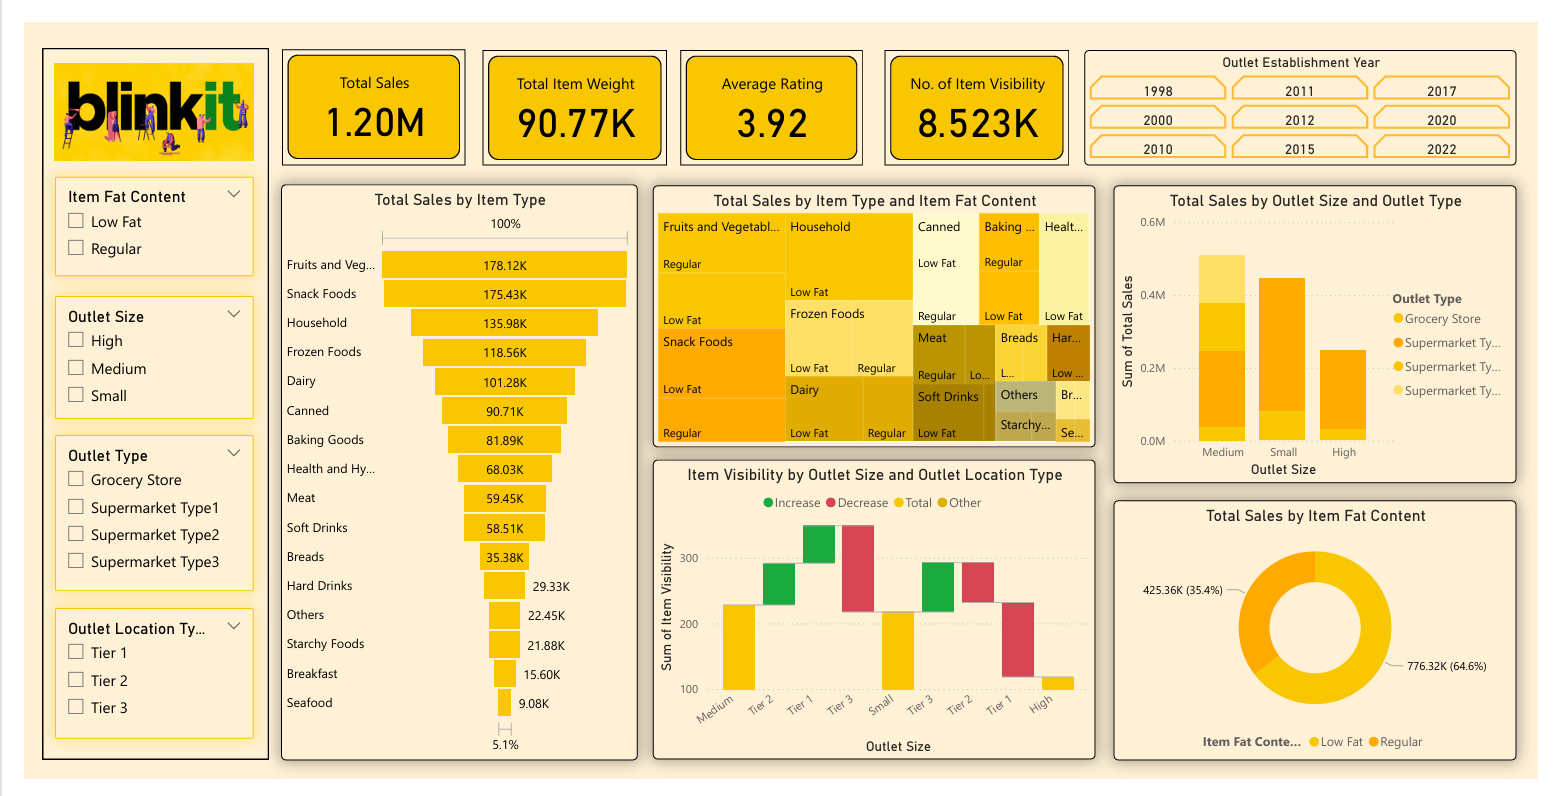

The page's visual inventory and layout, read from the dashboard file:
{"tool":"powerbi","page":{"name":"BlinkitData","canvas":[1600,800],"ordinal":0},"visuals":[{"type":"shape","box":[19.4,27.4,238.7,751.6],"z":0},{"type":"slicer","fields":{"Values":["BlinkIT Grocery Data.Item Fat Content"]},"box":[32.2,163.3,210,104.4],"z":1000},{"type":"slicer","fields":{"Values":["BlinkIT Grocery Data.Outlet Size"]},"box":[31.9,288.9,209.7,130.6],"z":2000},{"type":"slicer","fields":{"Values":["BlinkIT Grocery Data.Outlet Type"]},"box":[31.9,436.1,209.7,165.3],"z":3000},{"type":"cardVisual","title":"Total Sales","fields":{"Data":["Sum(BlinkIT Grocery Data.Total Sales)"]},"box":[271.6,28.4,194.6,123],"z":4000},{"type":"cardVisual","fields":{"Data":["Avg(BlinkIT Grocery Data.Rating)"]},"box":[692.5,28.8,193.8,122.5],"z":5000},{"type":"cardVisual","fields":{"Data":["Sum(BlinkIT Grocery Data.Item Weight)"]},"box":[483.8,28.8,195,122.5],"z":6000},{"type":"donutChart","title":"Total Sales by Item Fat Content","fields":{"Category":["BlinkIT Grocery Data.Item Fat Content"],"Y":["Sum(BlinkIT Grocery Data.Total Sales)"]},"box":[1150.8,504.9,426.2,275.4],"z":7000},{"type":"columnChart","title":"Total Sales by Outlet Size and Outlet Type","fields":{"Category":["BlinkIT Grocery Data.Outlet Size"],"Y":["Sum(BlinkIT Grocery Data.Total Sales)"],"Series":["BlinkIT Grocery Data.Outlet Type"]},"box":[1150.8,172.1,426.2,314.8],"z":8000},{"type":"treemap","title":"Total Sales by Item Type and Item Fat Content","fields":{"Group":["BlinkIT Grocery Data.Item Type"],"Details":["BlinkIT Grocery Data.Item Fat Content"],"Values":["Sum(BlinkIT Grocery Data.Total Sales)"]},"box":[663.8,172.5,468.1,276.8],"z":9000},{"type":"waterfallChart","title":"Item Visibility by Outlet Size and Outlet Location Type","fields":{"Y":["Sum(BlinkIT Grocery Data.Item Visibility)"],"Category":["BlinkIT Grocery Data.Outlet Size"],"Breakdown":["BlinkIT Grocery Data.Outlet Location Type"]},"box":[664.2,462.2,468,316.9],"z":10000},{"type":"funnel","title":"Total Sales by Item Type","fields":{"Y":["Sum(BlinkIT Grocery Data.Total Sales)"],"Category":["BlinkIT Grocery Data.Item Type"]},"box":[271,171,376.8,608.7],"z":11000},{"type":"cardVisual","fields":{"Data":["CountNonNull(BlinkIT Grocery Data.Item Visibility)"]},"box":[908.8,28.8,195,122.5],"z":12000},{"type":"advancedSlicerVisual","fields":{"Values":["BlinkIT Grocery Data.Outlet Establishment Year"]},"box":[1120.3,29,456.5,121.7],"z":13000},{"type":"image","box":[25.6,37.8,221.1,113.3],"z":14000},{"type":"slicer","fields":{"Values":["BlinkIT Grocery Data.Outlet Location Type"]},"box":[31.9,619.4,209.7,137.5],"z":15000}]}

Visuals, with their boxes in screenshot pixels (x1, y1, x2, y2), scaled from the page's 1600x800 canvas onto the 1561x796 screenshot:
shape: box=[19, 27, 252, 775]
slicer - BlinkIT Grocery Data.Item Fat Content: box=[31, 162, 236, 266]
slicer - BlinkIT Grocery Data.Outlet Size: box=[31, 287, 236, 417]
slicer - BlinkIT Grocery Data.Outlet Type: box=[31, 434, 236, 598]
"Total Sales" cardVisual: box=[265, 28, 455, 151]
cardVisual - Avg(BlinkIT Grocery Data.Rating): box=[676, 29, 865, 151]
cardVisual - Sum(BlinkIT Grocery Data.Item Weight): box=[472, 29, 662, 151]
"Total Sales by Item Fat Content" donutChart: box=[1123, 502, 1539, 776]
"Total Sales by Outlet Size and Outlet Type" columnChart: box=[1123, 171, 1539, 484]
"Total Sales by Item Type and Item Fat Content" treemap: box=[648, 172, 1104, 447]
"Item Visibility by Outlet Size and Outlet Location Type" waterfallChart: box=[648, 460, 1105, 775]
"Total Sales by Item Type" funnel: box=[264, 170, 632, 776]
cardVisual - CountNonNull(BlinkIT Grocery Data.Item Visibility): box=[887, 29, 1077, 151]
advancedSlicerVisual - BlinkIT Grocery Data.Outlet Establishment Year: box=[1093, 29, 1538, 150]
image: box=[25, 38, 241, 150]
slicer - BlinkIT Grocery Data.Outlet Location Type: box=[31, 616, 236, 753]
